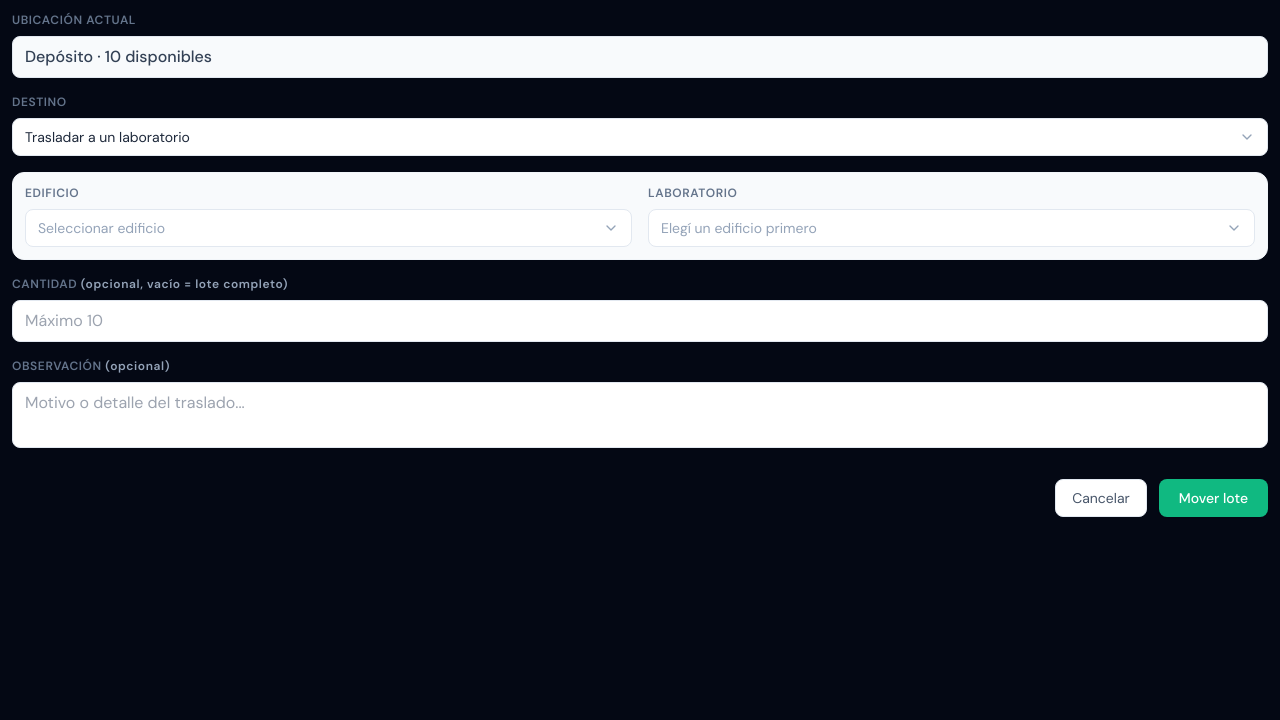
Test: FormularioTransferirLote Component › rechaza una cantidad no entera o menor a 1
Click the button "Seleccionar edificio" at (102, 228), box [25, 209, 632, 247]
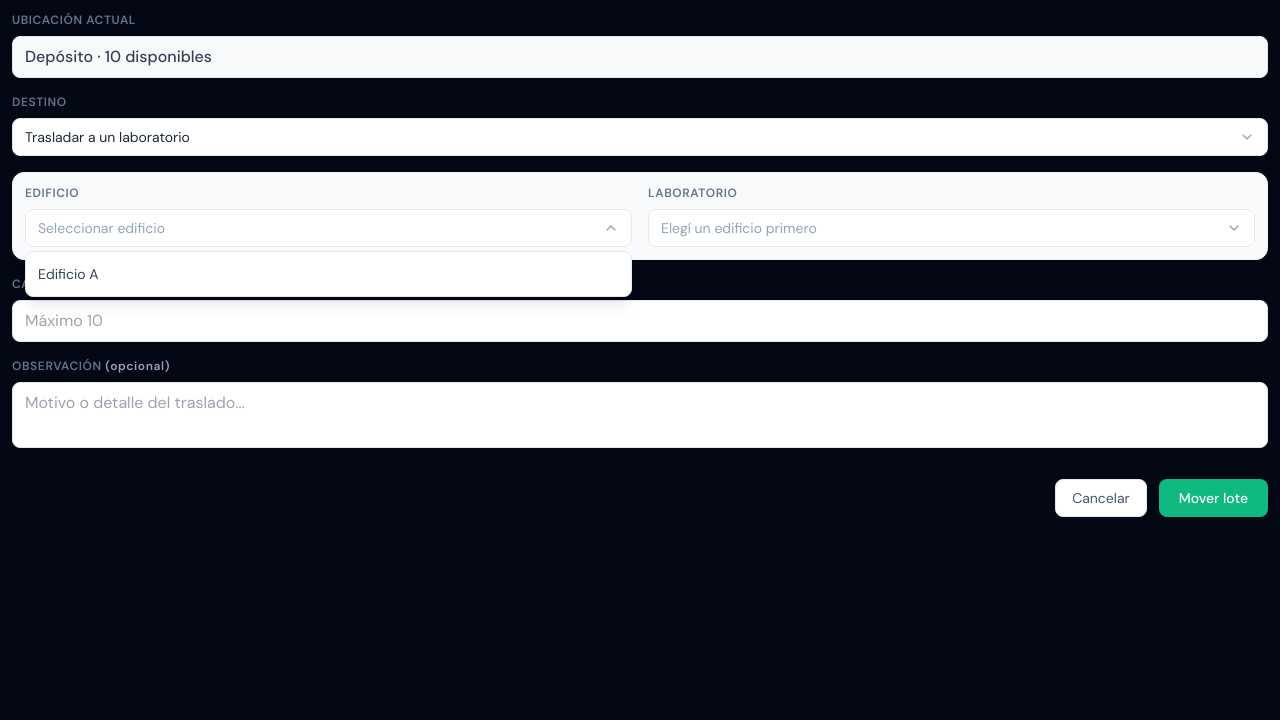
Click the button "Edificio A" at (68, 274), box [26, 256, 631, 292]
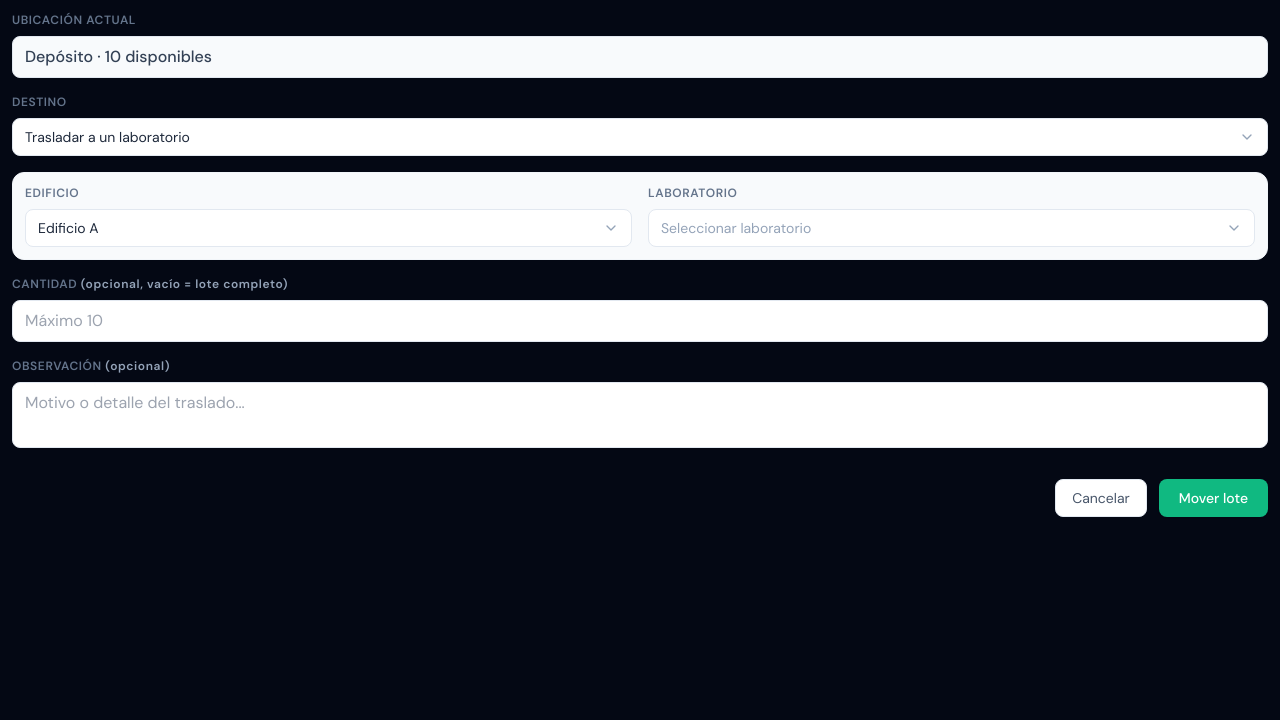
Click the button "Seleccionar laboratorio" at (736, 228), box [648, 209, 1255, 247]
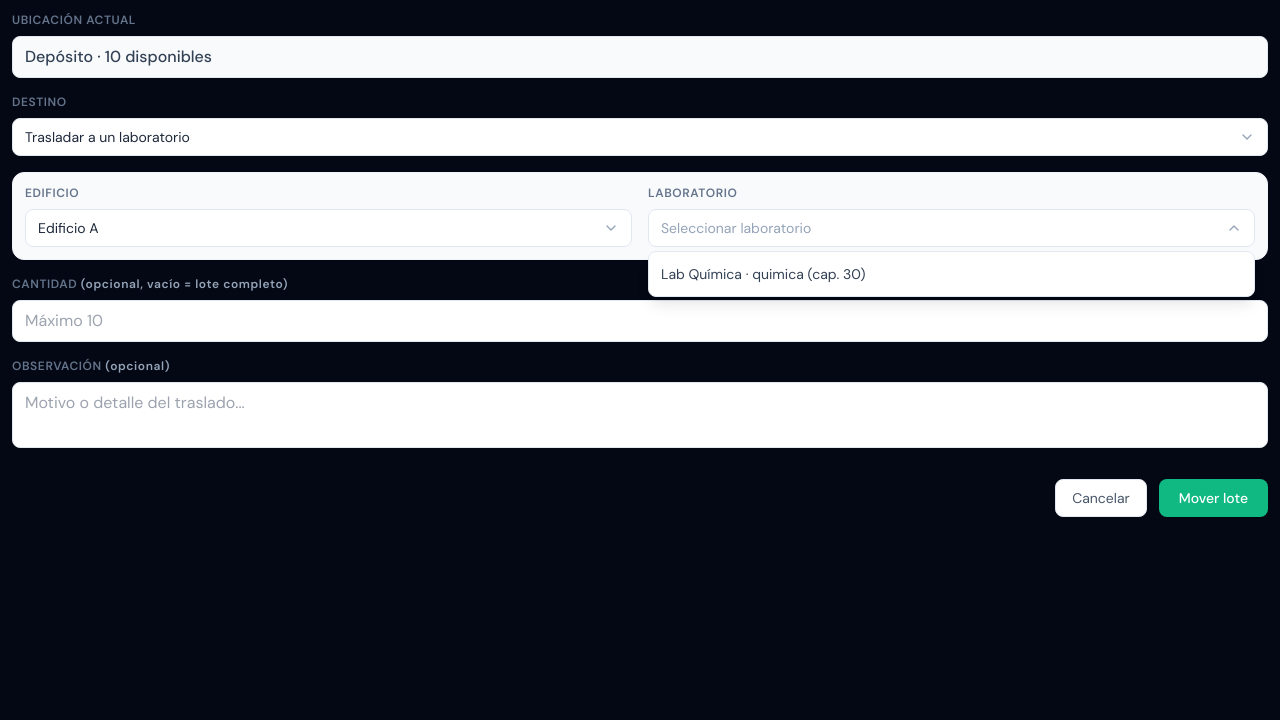
Click the button "Lab Química · quimica (cap. 30)" at (763, 274), box [649, 256, 1254, 292]
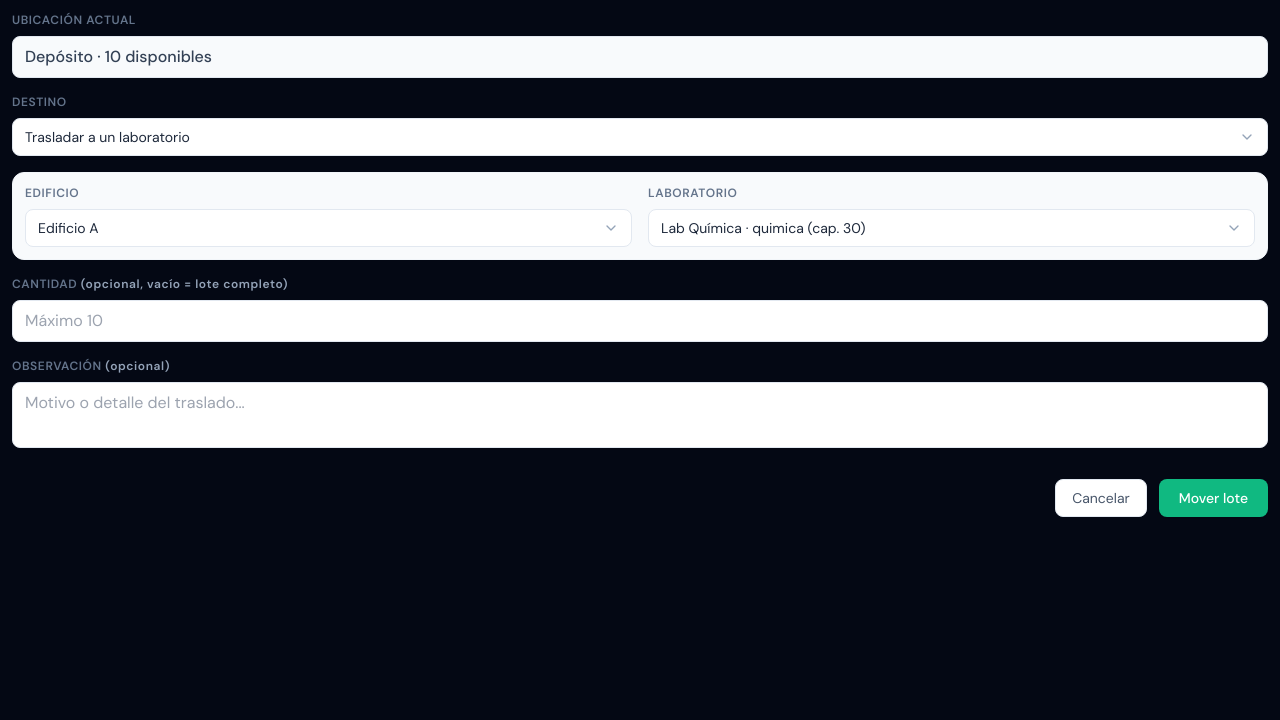
Type "1.5" into the number field with placeholder "Máximo 10" at (640, 321), box [12, 300, 1268, 342]
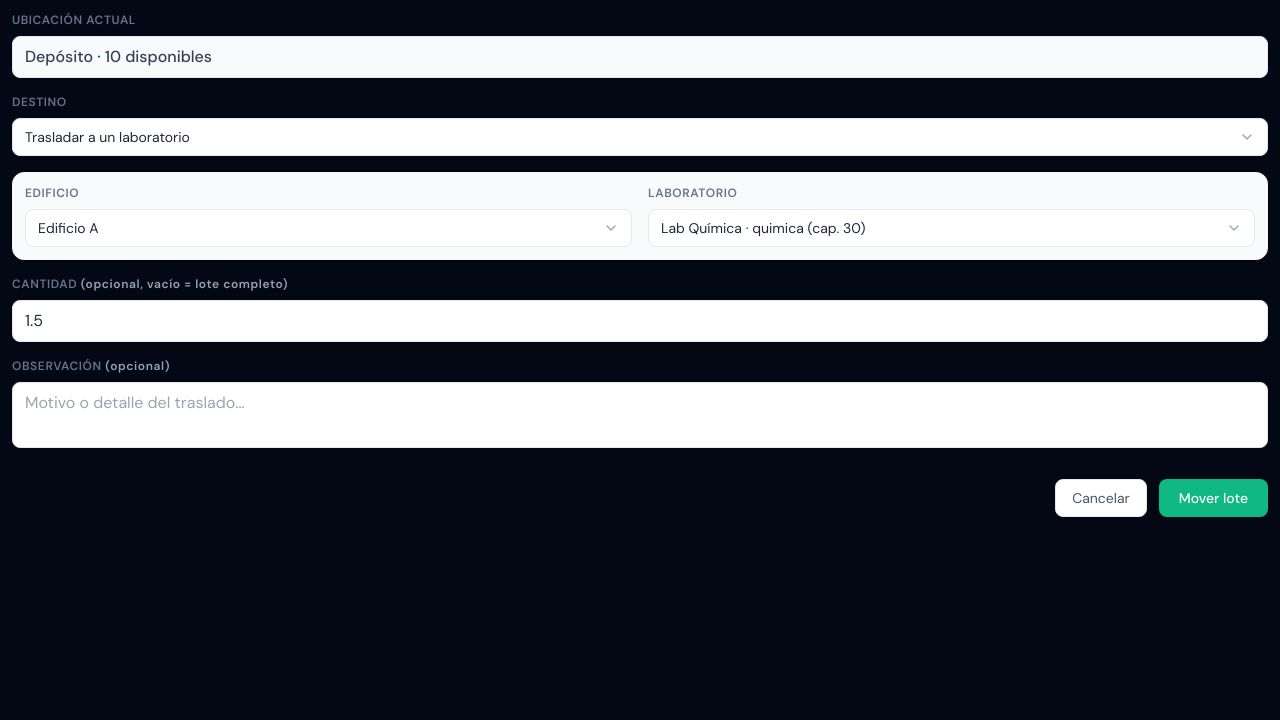
Submit the form
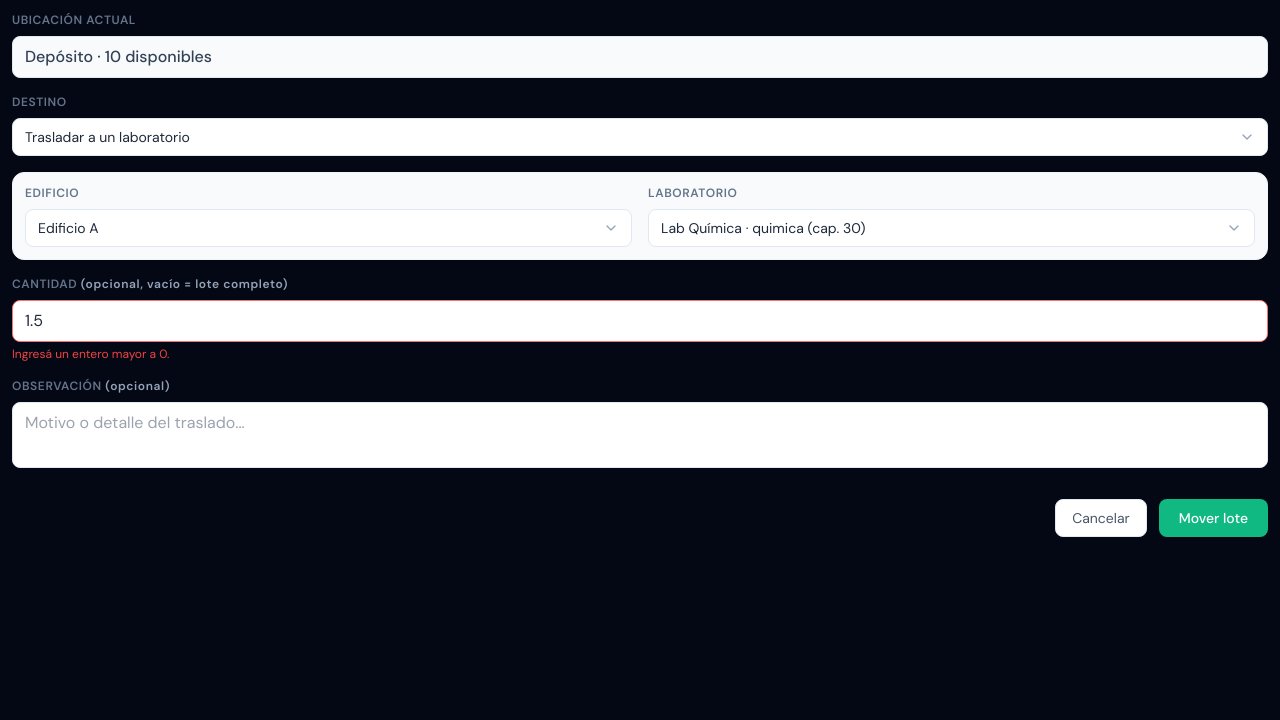
Expected: the text "Ingresá un entero mayor a 0." is shown, [12, 346, 169, 362]
